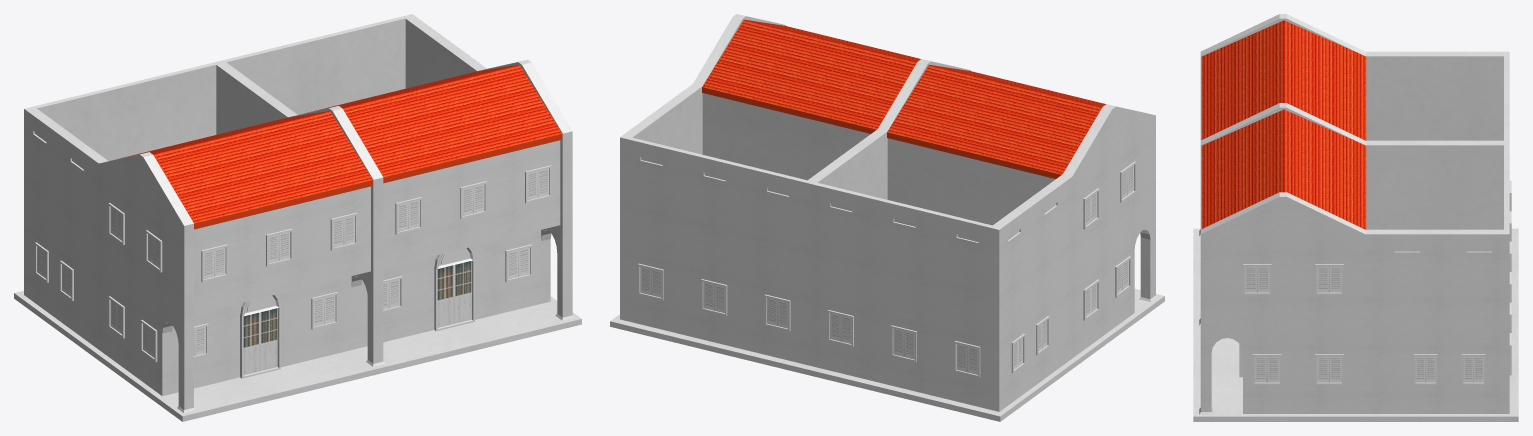
Rendered from House_Semi_D_Kaya.fbx.
The picture shows the model from 3 angles, left to right: view 1: azimuth 30°, elevation 25°; view 2: azimuth 150°, elevation 25°; view 3: azimuth 270°, elevation 25°; orthographic projection. The views are drawn at different scales.
Visible parts, largest first — view 1: Cube; view 2: Cube; view 3: Cube.
Part boxes in pixels (x1=…): Cube: x1=14, y1=14, x2=581, y2=421; Cube: x1=610, y1=14, x2=1164, y2=421; Cube: x1=1193, y1=14, x2=1518, y2=421.
Size of the model in its own units: 12.34 by 6.81 by 9.02.
